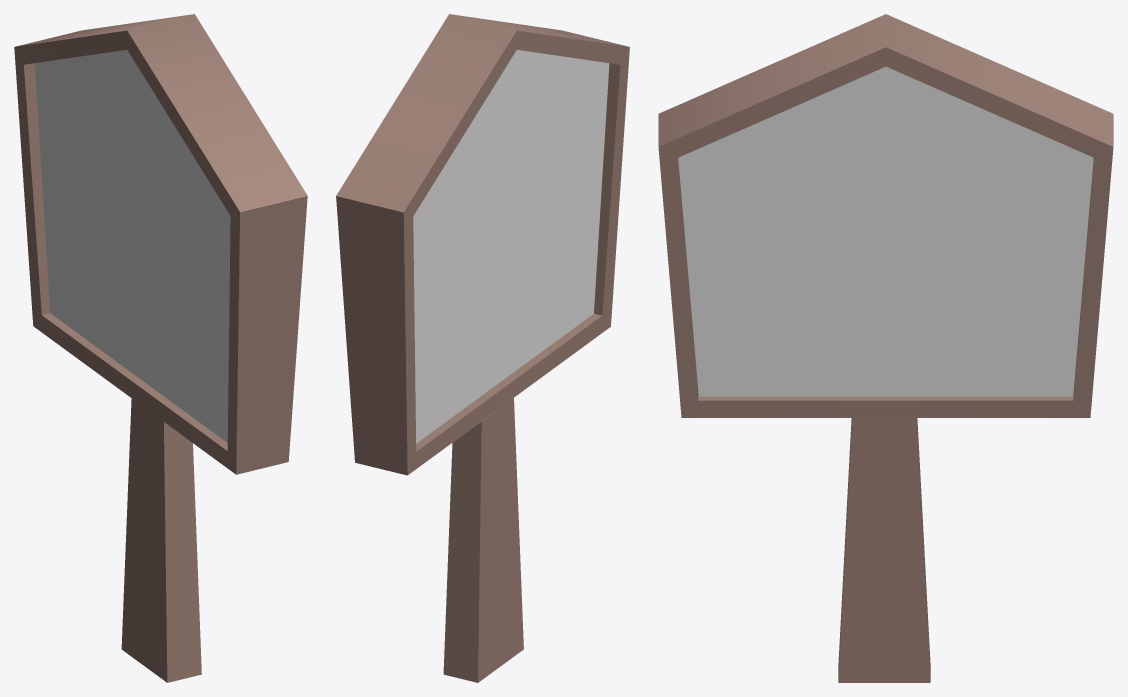
3 views of the same model, side by side, from view 1: azimuth 30°, elevation 25°; view 2: azimuth 150°, elevation 25°; view 3: azimuth 270°, elevation 25° (orthographic).
Visible parts, largest first — view 1: stop_sign; view 2: stop_sign; view 3: stop_sign.
Boxes of the visible parts, x1,y1,x2,y2 form: stop_sign: (14, 14, 307, 682); stop_sign: (336, 14, 629, 682); stop_sign: (658, 14, 1113, 682).
Bounding box in the file's own units: 0.9487 × 8.57 × 5.49.
